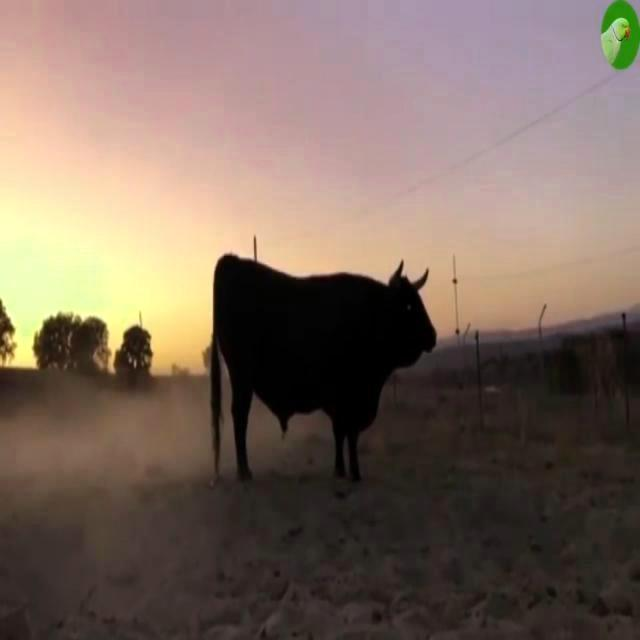COW: (210, 255, 436, 480)
